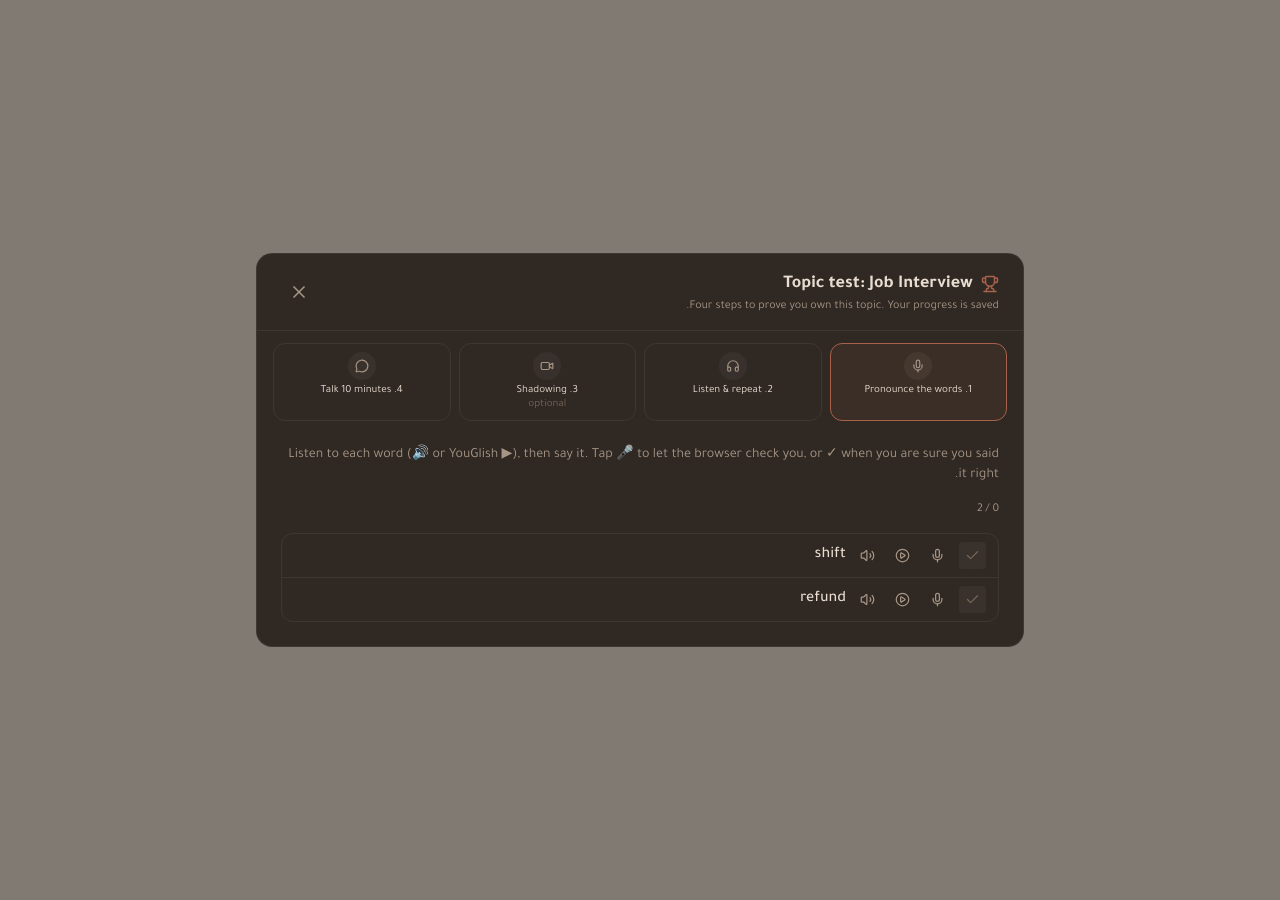
Test: TopicChallenge › marks a word passed when speech recognition hears it, and saves progress
This screenshot has width=1280, height=900.
What coordinates should you click on to do the following:
click the button named "Say it: shift"
I would click on:
 (938, 555)
Its box is [924,542,951,569].
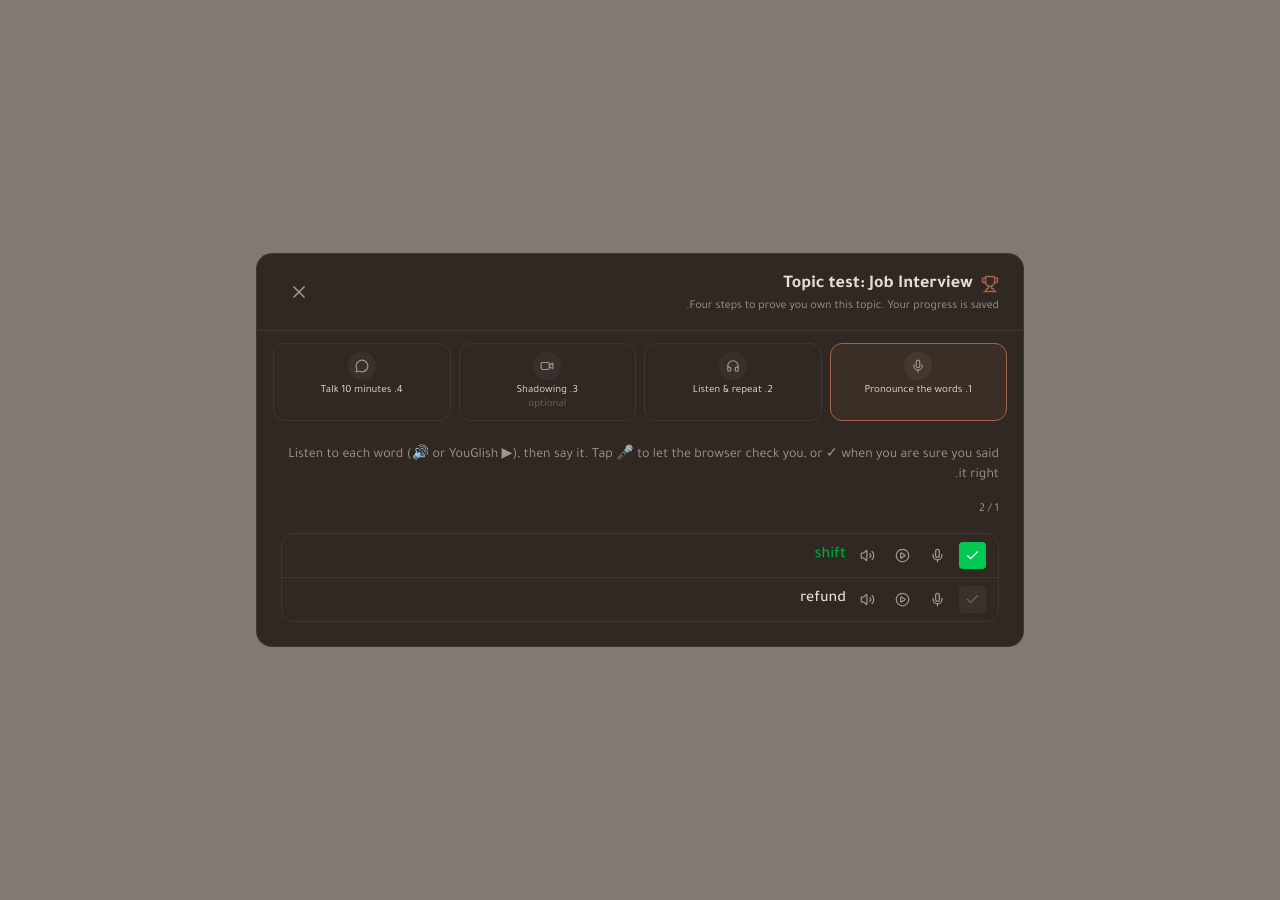
Result: the text "1 / 2" is shown at [979,503,999,515]
